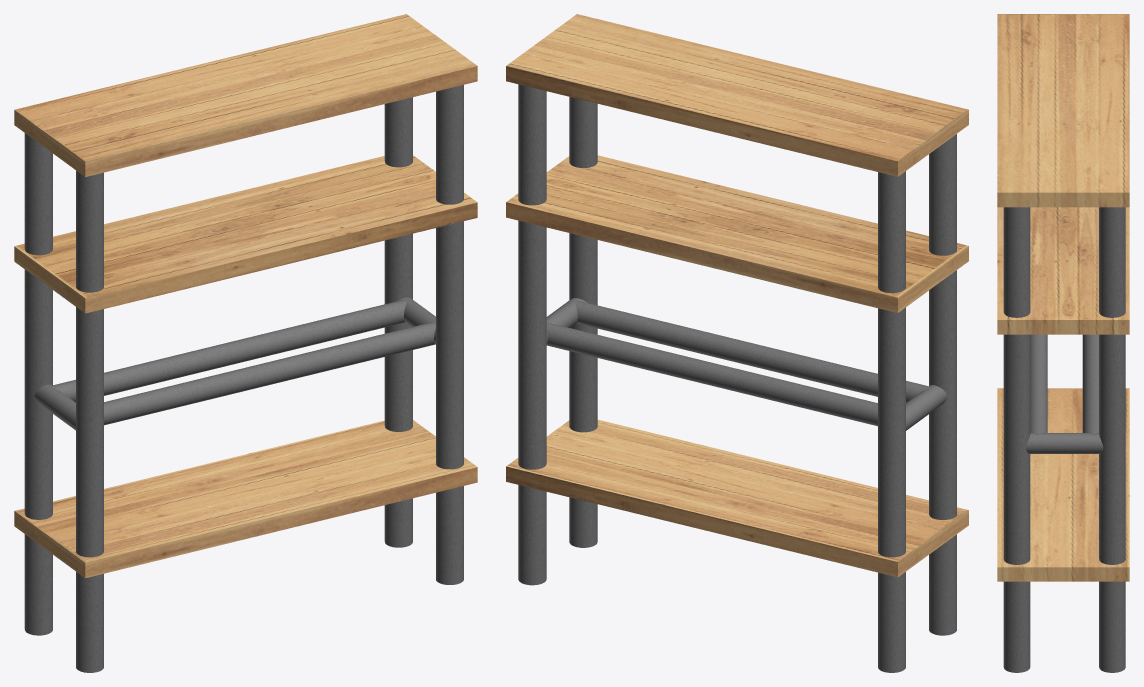
Rendered from sm_StorageRack.fbx.
3 renders of one model, left to right at view 1: azimuth 30°, elevation 25°; view 2: azimuth 150°, elevation 25°; view 3: azimuth 270°, elevation 25°, orthographic. The views are drawn at different scales.
Visible parts, largest first — view 1: pCylinder9; view 2: pCylinder9; view 3: pCylinder9.
Part boxes in pixels (x1,y1,x2,y2): pCylinder9: [14, 14, 477, 672]; pCylinder9: [506, 14, 968, 672]; pCylinder9: [997, 14, 1129, 672].
Size of the model in its own units: 798 by 1004 by 250.
1 material, 1 textured.
